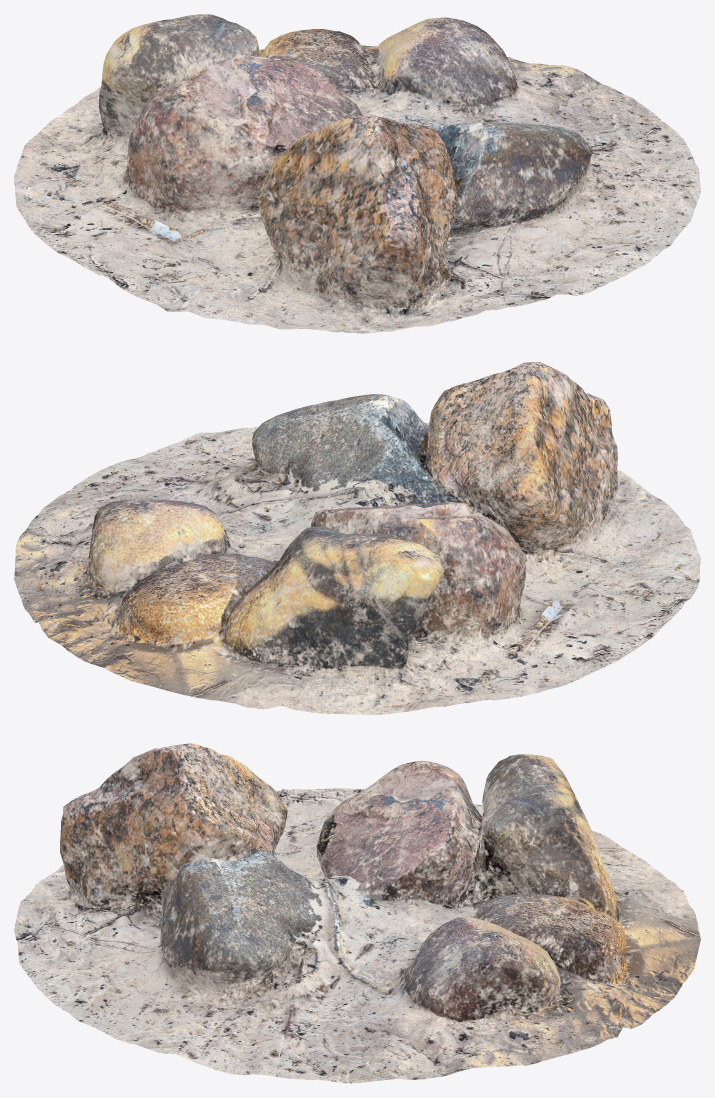
The model's file is Stone-3.glb.
3 views of the same model, one above another, from view 1: azimuth 30°, elevation 25°; view 2: azimuth 150°, elevation 25°; view 3: azimuth 270°, elevation 25° (orthographic).
Parts seen in each view (by area): view 1: StoneLP1.001_0; view 2: StoneLP1.001_0; view 3: StoneLP1.001_0.
Boxes of the visible parts, box(x1,y1,x2,y2) form: StoneLP1.001_0: box(14, 14, 700, 333); StoneLP1.001_0: box(14, 362, 700, 714); StoneLP1.001_0: box(14, 743, 700, 1083).
Bounding box in the file's own units: 1.47 × 0.3867 × 1.47.
1 material, 1 textured.
